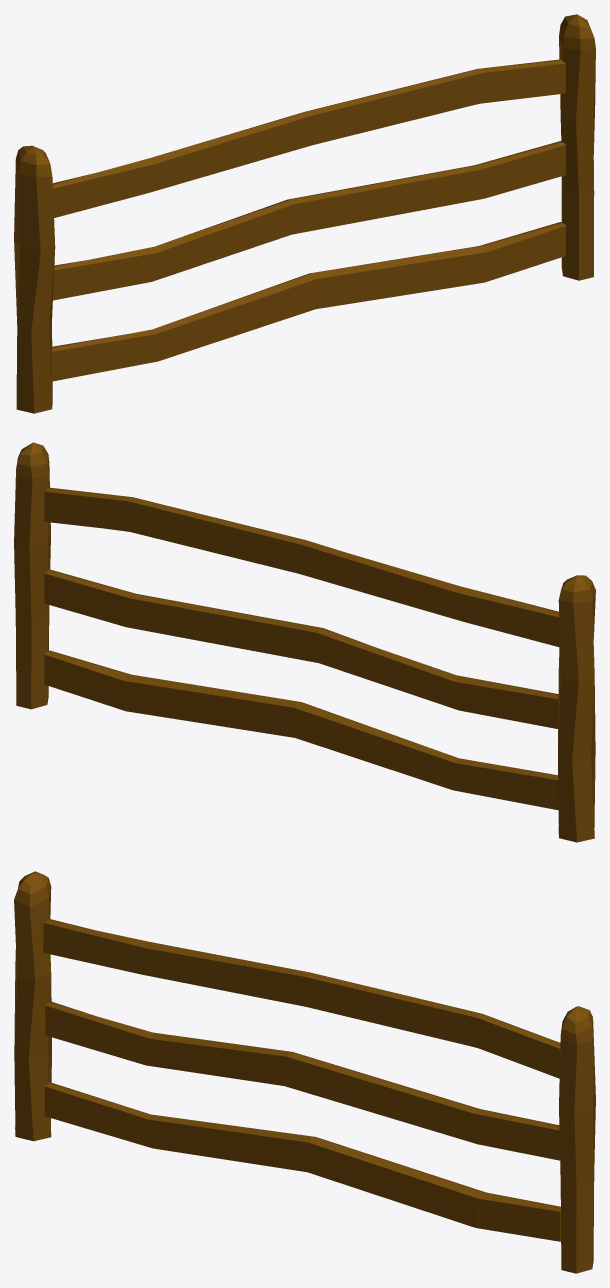
The model's file is Fence 3.fbx.
3 renders of one model, top to bottom at view 1: azimuth 30°, elevation 25°; view 2: azimuth 150°, elevation 25°; view 3: azimuth 330°, elevation 25°, orthographic.
Visible parts, largest first — view 1: Fence fill 2, Fence Post 2, Fence Post 3; view 2: Fence fill 2, Fence Post 2, Fence Post 3; view 3: Fence fill 2, Fence Post 2, Fence Post 3.
Part boxes in pixels (left/top/right/bottom): Fence fill 2: left=51, top=59, right=565, bottom=381; Fence Post 2: left=14, top=145, right=55, bottom=413; Fence Post 3: left=559, top=14, right=595, bottom=280; Fence fill 2: left=44, top=487, right=559, bottom=810; Fence Post 2: left=558, top=575, right=595, bottom=842; Fence Post 3: left=14, top=442, right=50, bottom=709; Fence fill 2: left=43, top=919, right=560, bottom=1241; Fence Post 2: left=14, top=871, right=51, bottom=1141; Fence Post 3: left=559, top=1006, right=595, bottom=1273.
Bounding box in the file's own units: 798 × 341 × 52.86.
